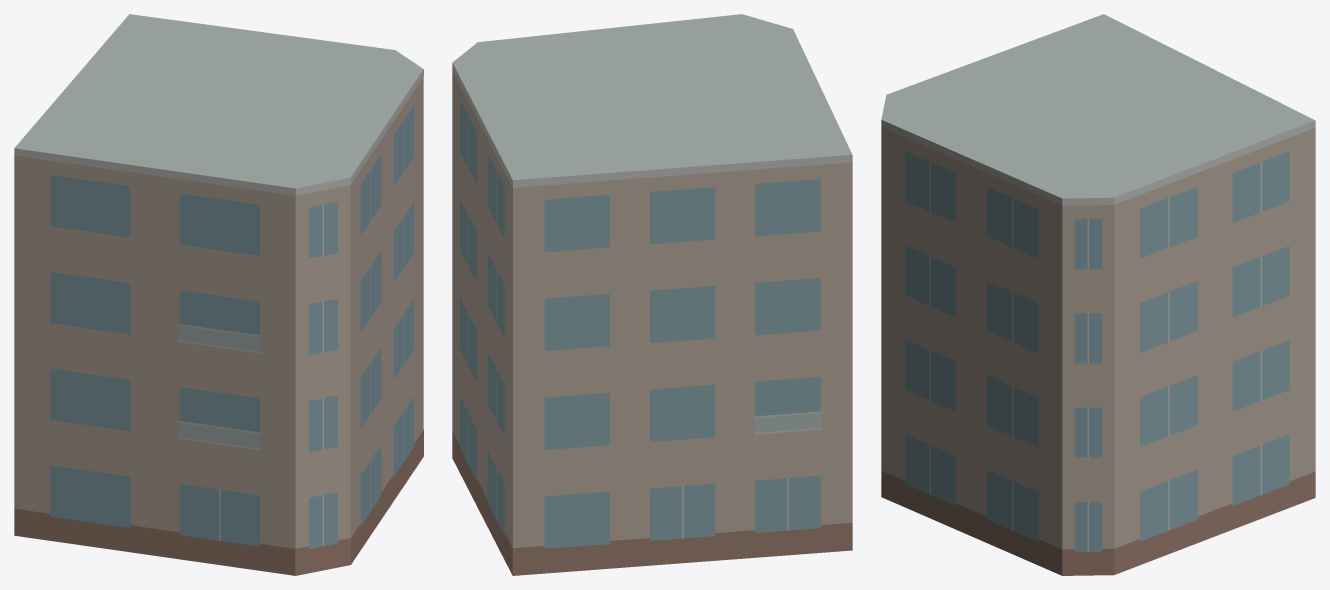
File: survey-upis-32629288.glb
3 views of the same model, side by side, from view 1: azimuth 30°, elevation 25°; view 2: azimuth 150°, elevation 25°; view 3: azimuth 270°, elevation 25° (orthographic). The views are drawn at different scales.
Parts seen in each view (by area): view 1: survey-upis-32629288.tmp; view 2: survey-upis-32629288.tmp; view 3: survey-upis-32629288.tmp.
Part boxes in pixels (x1=…): survey-upis-32629288.tmp: x1=14, y1=14, x2=423, y2=575; survey-upis-32629288.tmp: x1=452, y1=14, x2=852, y2=575; survey-upis-32629288.tmp: x1=881, y1=14, x2=1315, y2=575.
Bounding box in the file's own units: 13.38 × 12.75 × 13.31.
